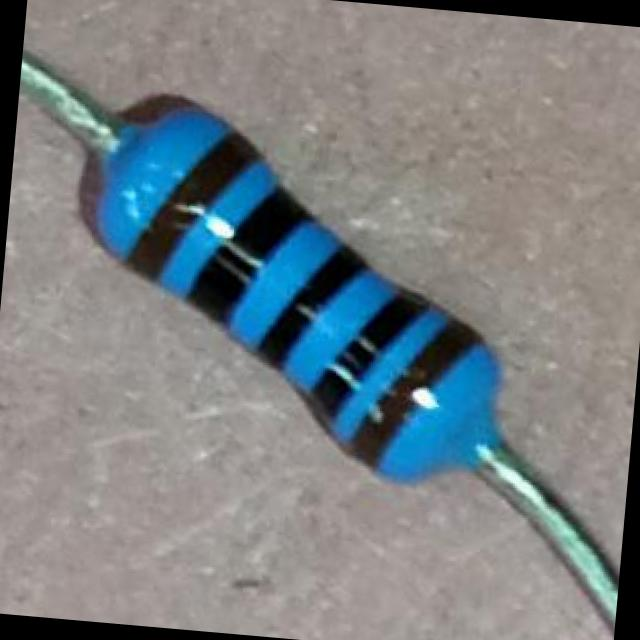Resistor: (93, 108, 500, 483)
black: (310, 286, 430, 431), (185, 186, 306, 329), (256, 247, 366, 371)
brown: (123, 129, 259, 286), (352, 324, 482, 473)
